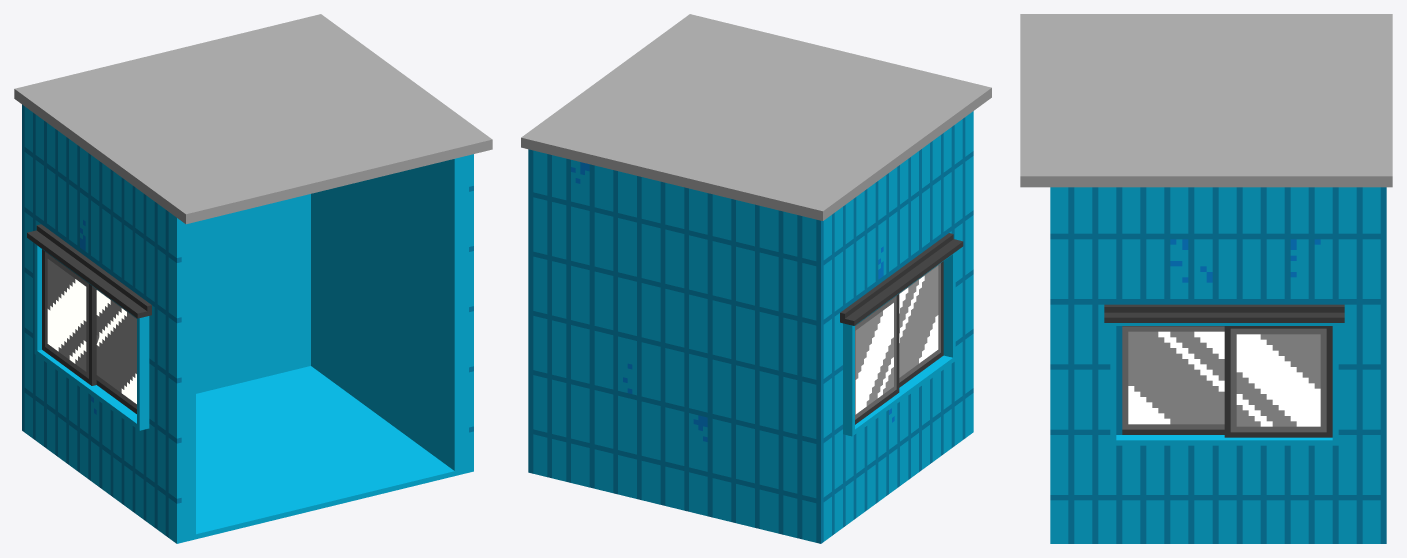
File: typeSix.glb
The picture shows the model from 3 angles, left to right: view 1: azimuth 30°, elevation 25°; view 2: azimuth 150°, elevation 25°; view 3: azimuth 270°, elevation 25°; orthographic projection. The views are drawn at different scales.
Visible parts, largest first — view 1: ObjObject; view 2: ObjObject; view 3: ObjObject.
Boxes of the visible parts, x1,y1,x2,y2 form: ObjObject: (14, 14, 492, 543); ObjObject: (521, 14, 991, 543); ObjObject: (1020, 14, 1392, 543).
Size of the model in its own units: 6.8 by 6.8 by 6.2.
3 materials, 1 textured.
